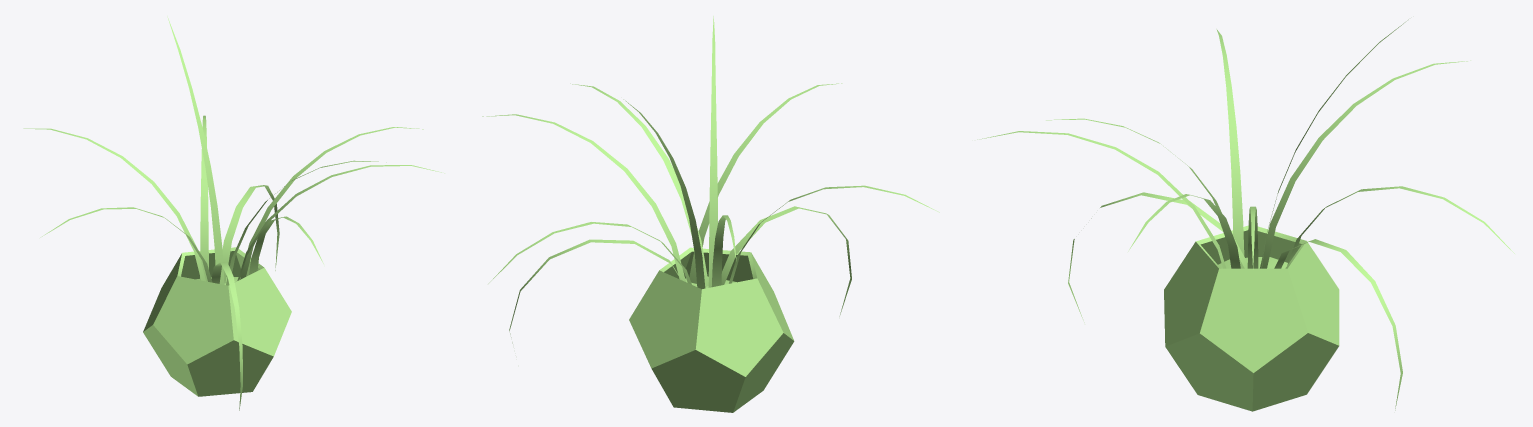
The model's file is plante.FBX.
3 views of the same model, side by side, from view 1: azimuth 30°, elevation 25°; view 2: azimuth 150°, elevation 25°; view 3: azimuth 270°, elevation 25° (orthographic). The views are drawn at different scales.
Parts seen in each view (by area): view 1: pot, plante004, plante003, plante001, plante002, plante005, plante010, plante008, plante007, plante006; view 2: pot, plante009, plante001, plante007, plante004, plante008, plante010, plante005, plante002, plante003, plante006; view 3: pot, plante006, plante005, plante002, plante007, plante008, plante010, plante003, plante001.
Part boxes in pixels (x1,y1,x2,y2): pot: (143,247,291,396); plante004: (167,16,224,284); plante003: (200,115,208,281); plante001: (240,127,423,279); plante002: (222,185,279,283); plante005: (23,128,205,281); plante010: (211,262,242,410); plante008: (237,165,444,280); plante007: (249,216,323,274); plante006: (40,207,212,282); pot: (629,247,794,412); plante009: (708,16,717,287); plante001: (482,114,685,281); plante007: (689,83,842,283); plante004: (623,99,705,288); plante008: (570,83,708,286); plante010: (721,206,851,316); plante005: (711,215,736,287); plante002: (509,239,681,343); plante003: (488,222,691,284); plante006: (729,185,939,283); pot: (1164,225,1339,411); plante006: (1216,29,1244,268); plante005: (1260,60,1470,268); plante002: (1274,239,1402,410); plante007: (977,131,1226,268); plante008: (1128,194,1240,268); plante010: (1068,192,1247,322); plante003: (1287,186,1514,265); plante001: (1247,206,1258,269).
Bounding box in the file's own units: 19.4 × 14.27 × 18.46.
